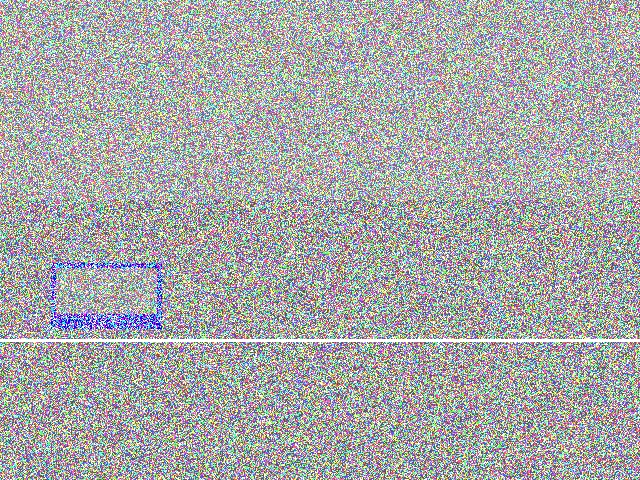bus: (492, 245, 593, 367)
motorcycle: (512, 241, 609, 322)
